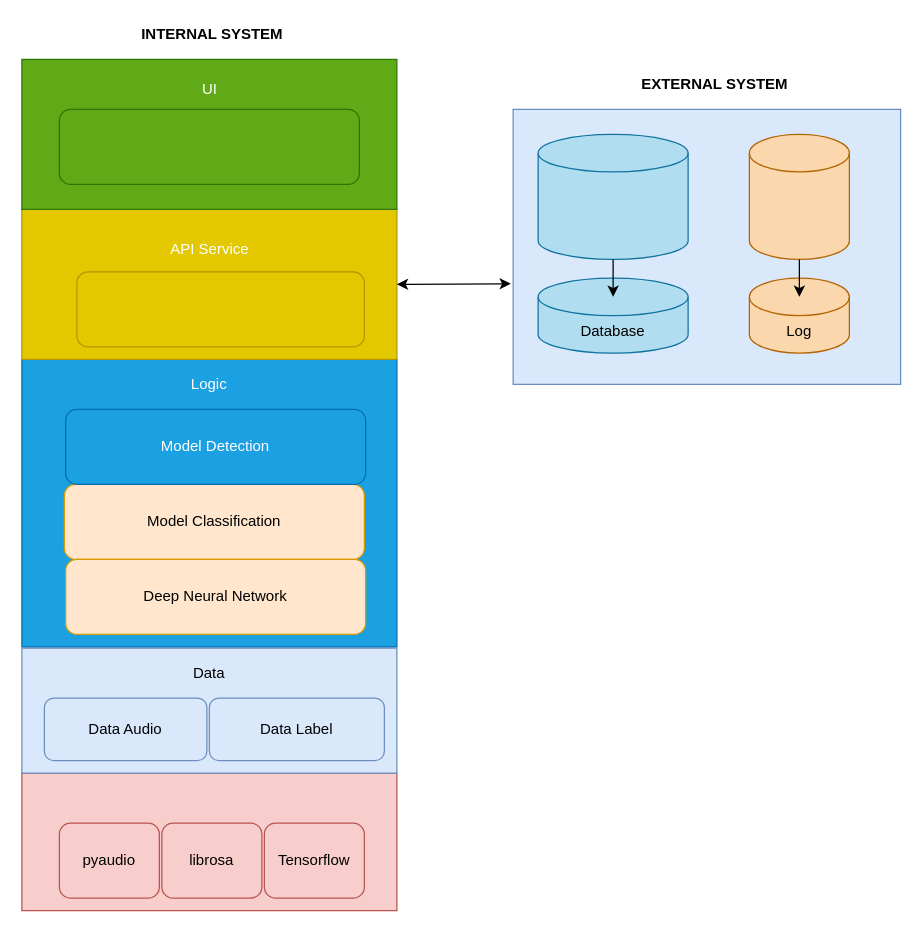
Image size: 923x933. Some labels were removed from this diagram. The shapes that lost their labels are listed below. From the top down, each one's box as (x1, y1, x2, y2) in pixels, then its label:
(58, 108, 359, 184): Streamlit
(537, 133, 688, 259): MinIO Storage
(748, 133, 849, 259): ELK
(76, 271, 364, 347): Flask Socketio
(21, 772, 397, 911): Library
